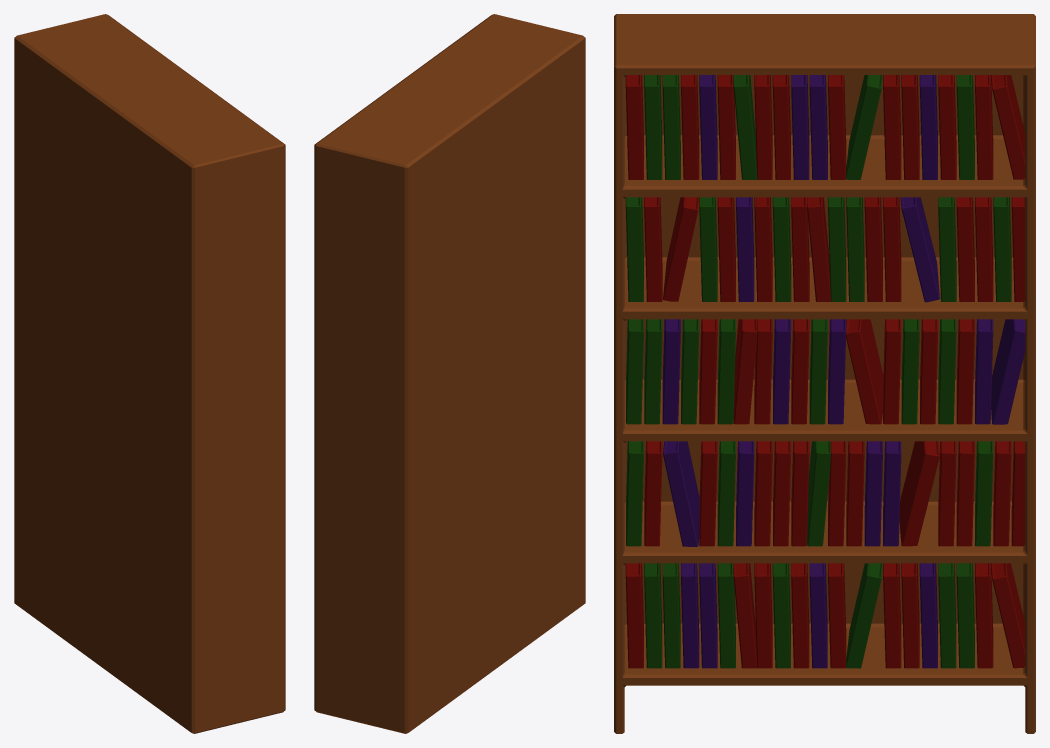
The model's file is Bookshelf.fbx.
3 views of the same model, side by side, from view 1: azimuth 30°, elevation 25°; view 2: azimuth 150°, elevation 25°; view 3: azimuth 270°, elevation 25° (orthographic). The views are drawn at different scales.
Visible parts, largest first — view 1: Cube; view 2: Cube; view 3: Cube.
Boxes of the visible parts, left/top/right/bottom form: Cube: left=14, top=14, right=285, bottom=733; Cube: left=314, top=14, right=585, bottom=733; Cube: left=614, top=14, right=1035, bottom=733.
Bounding box in the file's own units: 0.5198 × 3 × 1.71.
